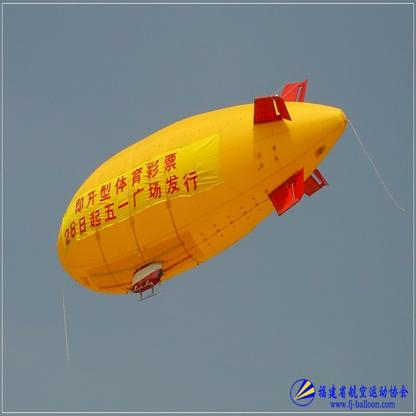Airship: (46, 84, 355, 306)
